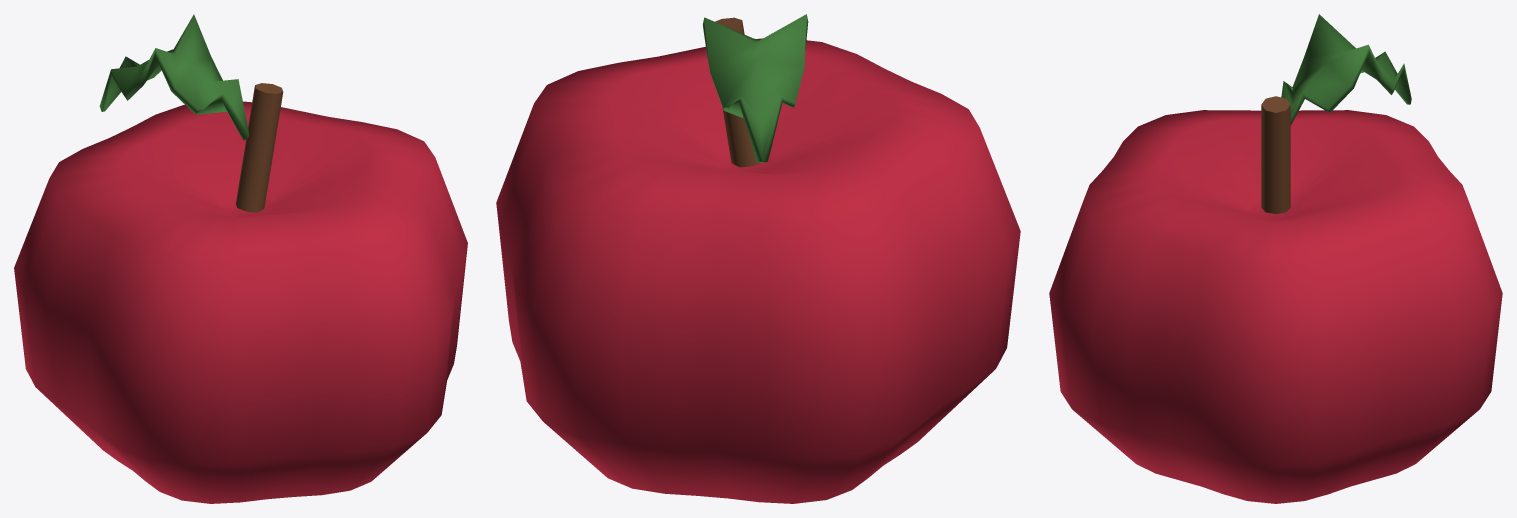
Rendered from tomato.glb.
3 renders of one model, left to right at view 1: azimuth 30°, elevation 25°; view 2: azimuth 150°, elevation 25°; view 3: azimuth 270°, elevation 25°, orthographic. The views are drawn at different scales.
Visible parts, largest first — view 1: edible_apple.002, edible_leaf.003, edible_stem.005; view 2: edible_apple.002, edible_leaf.003, edible_stem.005; view 3: edible_apple.002, edible_leaf.003, edible_stem.005.
Part boxes in pixels (bbox=[...]): edible_apple.002: bbox=[14, 101, 467, 503]; edible_leaf.003: bbox=[99, 14, 248, 140]; edible_stem.005: bbox=[236, 83, 283, 212]; edible_apple.002: bbox=[496, 38, 1020, 503]; edible_leaf.003: bbox=[703, 14, 808, 162]; edible_stem.005: bbox=[715, 17, 760, 167]; edible_apple.002: bbox=[1049, 110, 1502, 503]; edible_leaf.003: bbox=[1281, 14, 1411, 125]; edible_stem.005: bbox=[1261, 96, 1290, 213].
Bounding box in the file's own units: 0.1207 × 0.123 × 0.1241.
